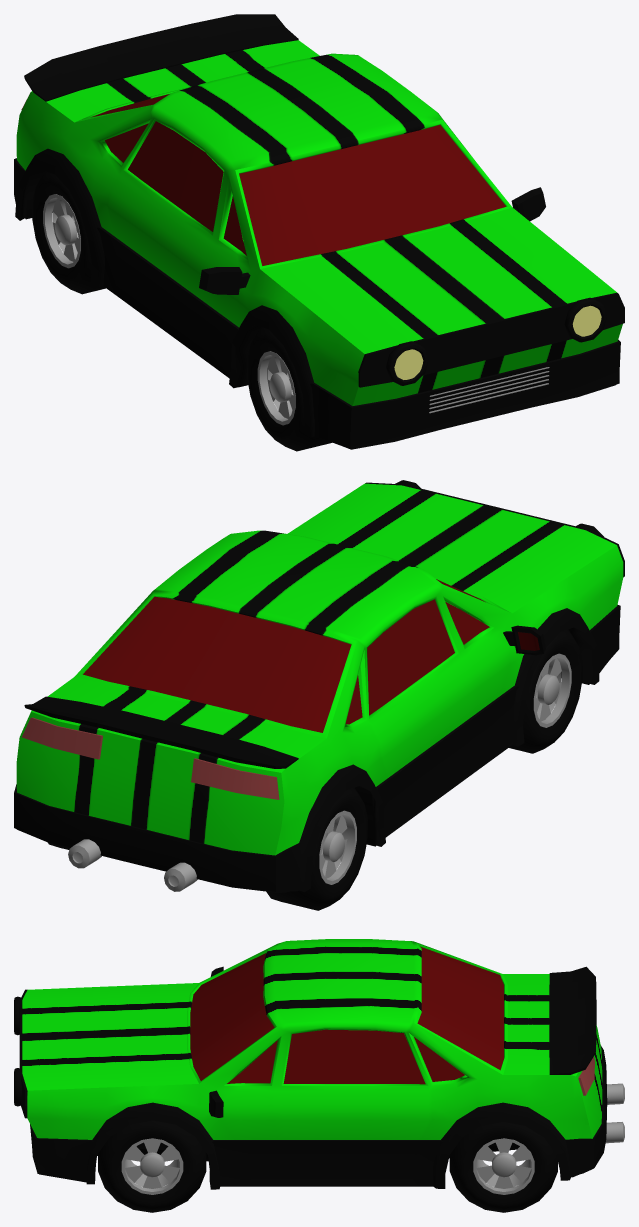
The model's file is Muscle Evolution2 Black TrilineBlackGreen DarkRed LightGrey.gltf.
The picture shows the model from 3 angles, top to bottom: view 1: azimuth 30°, elevation 25°; view 2: azimuth 150°, elevation 25°; view 3: azimuth 270°, elevation 25°; orthographic projection. The views are drawn at different scales.
Visible parts, largest first — view 1: evo2_body2_f1_dupl, evo2_frontGlass_f1_dupl, evo2_sill2_f1_dupl, evo2_spoiler2_f1_dupl, evo2_front_square2_f1_dupl, evo2_glasseBigR_f1_dupl, evo2_mudguardFR_f1_dupl, evo2_mudguardbR_f1_dupl, evo2_tire_rf1_f1_dupl, evo2_tire_rf_f1_dupl, evo2_rim_A_rf_f1_dupl, evo2_rim_A_rb_f1_dupl (+9 smaller); view 2: evo2_body2_f1_dupl, evo2_BackGlassGlass_f1_dupl, evo2_sill2_f1_dupl, evo2_spoiler2_f1_dupl, evo2_glasseBigR_f1_dupl, evo2_tire_rf_f1_dupl, evo2_mudguardbR_f1_dupl, evo2_mudguardFR_f1_dupl, evo2_tire_rf1_f1_dupl, evo2_rim_A_rf_f1_dupl, evo2_rim_A_rb_f1_dupl, evo2_redlightR2_f1_dupl (+5 smaller); view 3: evo2_body2_f1_dupl, evo2_sill2_f1_dupl, evo2_BackGlassGlass_f1_dupl, evo2_glasseBigL_f1_dupl, evo2_frontGlass_f1_dupl, evo2_tire_lf_f1_dupl, evo2_tire_lb_f1_dupl, evo2_spoiler2_f1_dupl, evo2_mudguardBL_f1_dupl, evo2_mudguardFL_f1_dupl, evo2_rim_A_lf_f1_dupl, evo2_rim_A_lb_f1_dupl (+4 smaller).
Part boxes in pixels (x1,y1,x2,y2): evo2_body2_f1_dupl: (16,40,622,405); evo2_frontGlass_f1_dupl: (239,125,505,265); evo2_sill2_f1_dupl: (14,158,620,449); evo2_spoiler2_f1_dupl: (24,14,298,101); evo2_front_square2_f1_dupl: (358,292,624,387); evo2_glasseBigR_f1_dupl: (128,121,223,231); evo2_mudguardFR_f1_dupl: (229,305,314,437); evo2_mudguardbR_f1_dupl: (15,148,104,286); evo2_tire_rf1_f1_dupl: (247,327,331,451); evo2_tire_rf_f1_dupl: (32,171,105,294); evo2_rim_A_rf_f1_dupl: (257,351,295,425); evo2_rim_A_rb_f1_dupl: (43,194,80,268); evo2_body2_f1_dupl: (16,483,623,855); evo2_BackGlassGlass_f1_dupl: (83,596,351,732); evo2_sill2_f1_dupl: (14,605,620,891); evo2_spoiler2_f1_dupl: (24,696,298,768); evo2_glasseBigR_f1_dupl: (367,599,454,715); evo2_tire_rf_f1_dupl: (266,787,367,910); evo2_mudguardbR_f1_dupl: (299,764,385,891); evo2_mudguardFR_f1_dupl: (512,608,599,746); evo2_tire_rf1_f1_dupl: (509,629,582,753); evo2_rim_A_rf_f1_dupl: (533,653,571,727); evo2_rim_A_rb_f1_dupl: (319,810,356,884); evo2_redlightR2_f1_dupl: (191,758,279,799); evo2_body2_f1_dupl: (22,939,602,1159); evo2_sill2_f1_dupl: (30,1045,607,1186); evo2_BackGlassGlass_f1_dupl: (417,946,503,1070); evo2_glasseBigL_f1_dupl: (283,1029,425,1084); evo2_frontGlass_f1_dupl: (190,953,274,1080); evo2_tire_lf_f1_dupl: (98,1120,206,1212); evo2_tire_lb_f1_dupl: (449,1122,557,1212); evo2_spoiler2_f1_dupl: (549,966,596,1074); evo2_mudguardBL_f1_dupl: (433,1102,570,1188); evo2_mudguardFL_f1_dupl: (86,1102,220,1189); evo2_rim_A_lf_f1_dupl: (121,1138,183,1194); evo2_rim_A_lb_f1_dupl: (473,1138,534,1194).
Bounding box in the file's own units: 177 × 112 × 331.
7 materials, 1 textured.
